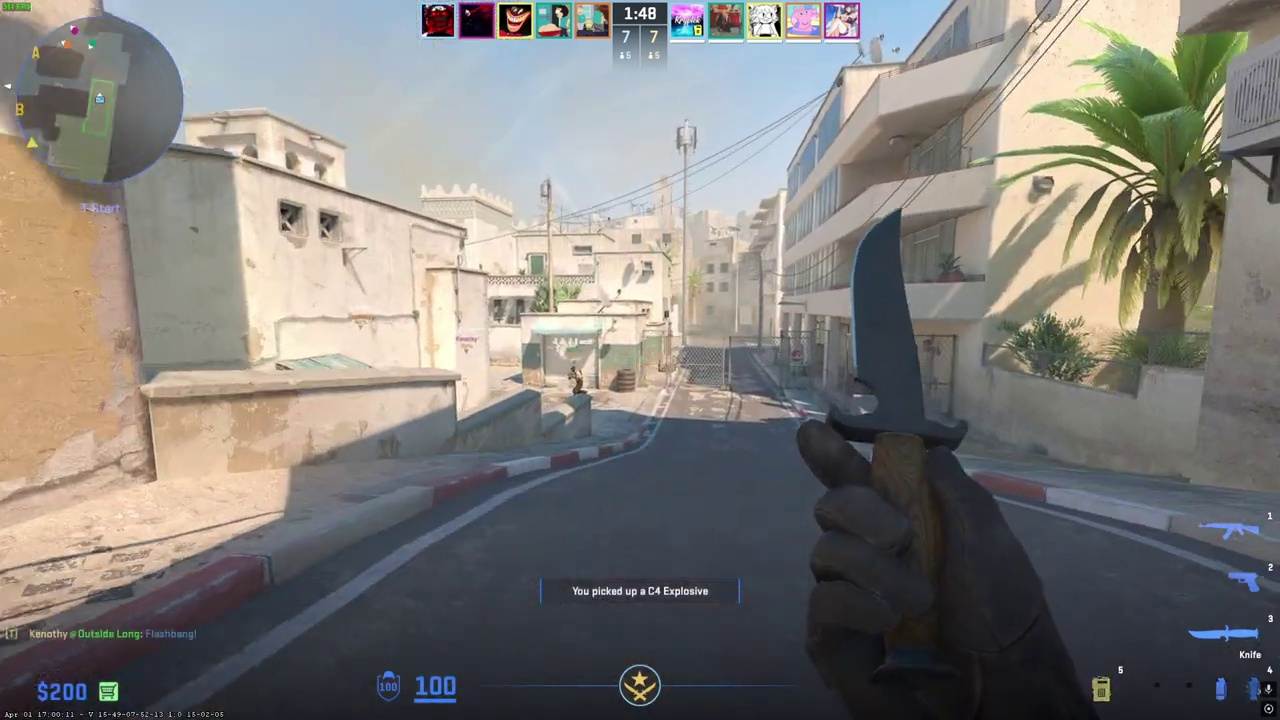Terrorist: (570, 366, 585, 395)
